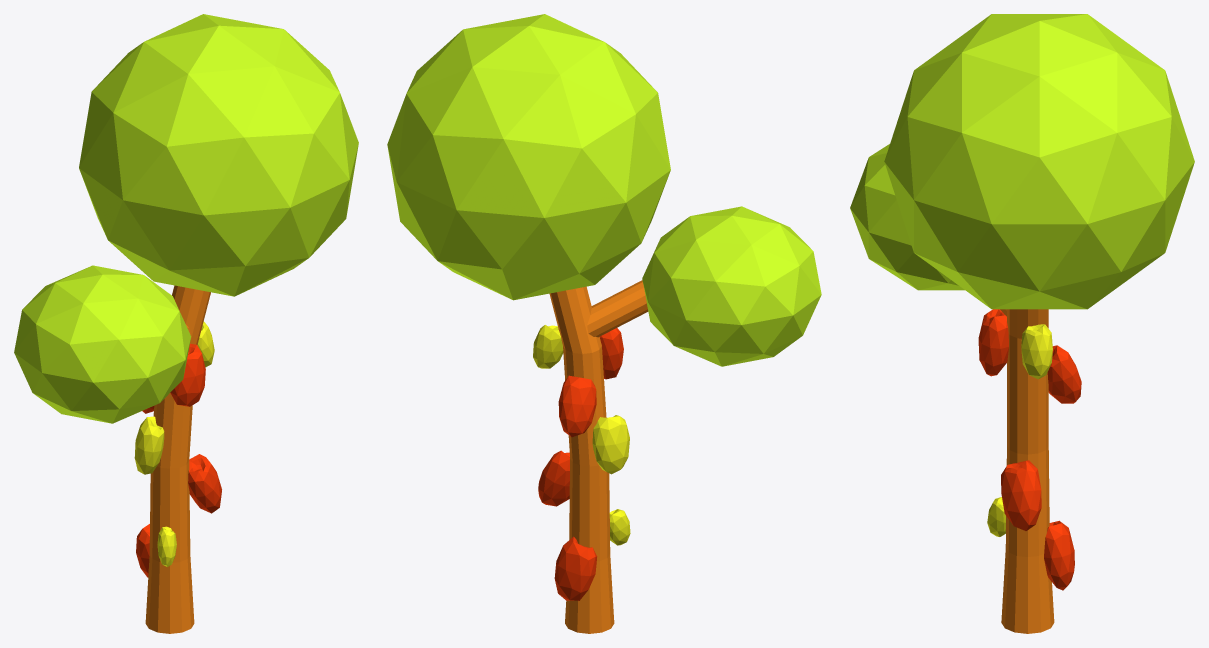
The model's file is cacaotree.glb.
The picture shows the model from 3 angles, left to right: view 1: azimuth 30°, elevation 25°; view 2: azimuth 150°, elevation 25°; view 3: azimuth 270°, elevation 25°; orthographic projection. The views are drawn at different scales.
Visible parts, largest first — view 1: cacaotree; view 2: cacaotree; view 3: cacaotree.
Boxes of the visible parts, <box> form: cacaotree: <box>14,14,358,633</box>; cacaotree: <box>387,14,821,633</box>; cacaotree: <box>850,14,1194,633</box>.
Bounding box in the file's own units: 5.27 × 8.34 × 4.13.
